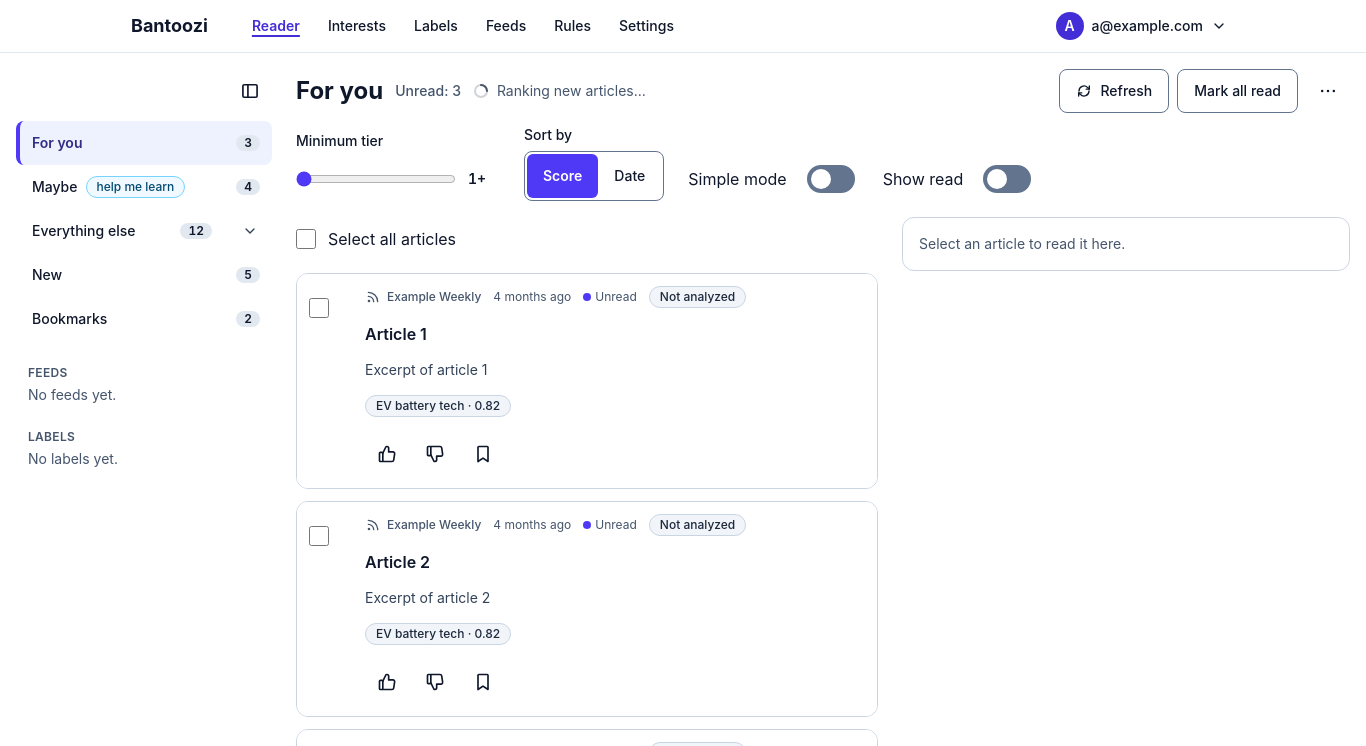
Scenario: rows the reader read keep their place across background reloads › keeps an opened article in the list after a poll no longer returns it
The width and height of the screenshot is (1366, 746).
Expected: the element "Article 1" is shown, [296,273,878,489]
Click the button "Article 2" at [398, 562], box [365,540,865,584]
Wait 5500 ms
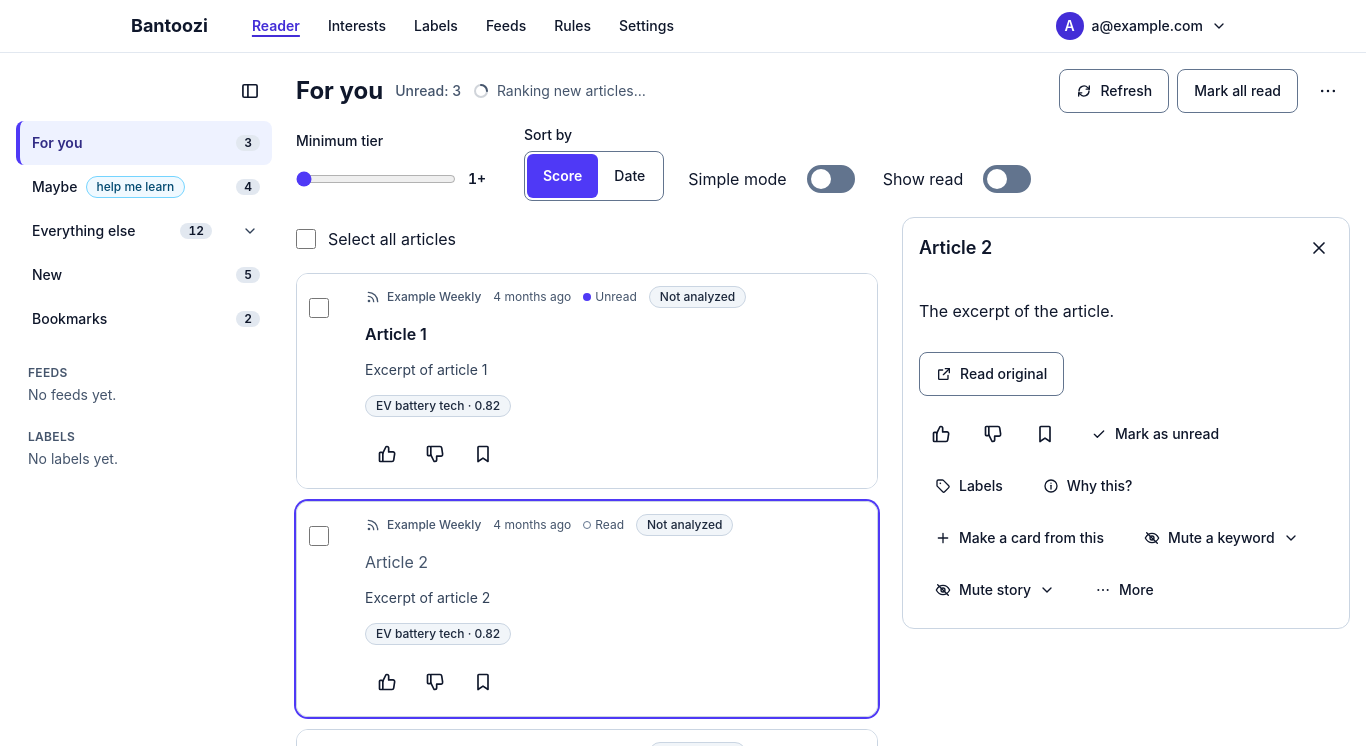
Result: the button "Article 2" is expanded at [365,540,865,584]
